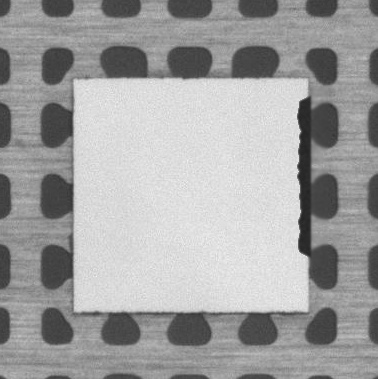DIE_BROKEN: (293, 91, 313, 263)
